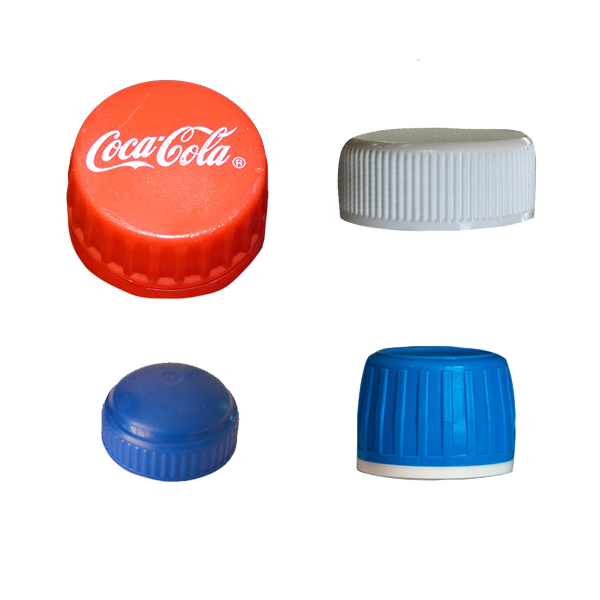PlasticCap: (69, 83, 266, 294), (341, 127, 542, 238), (352, 345, 516, 474), (114, 363, 237, 474)
